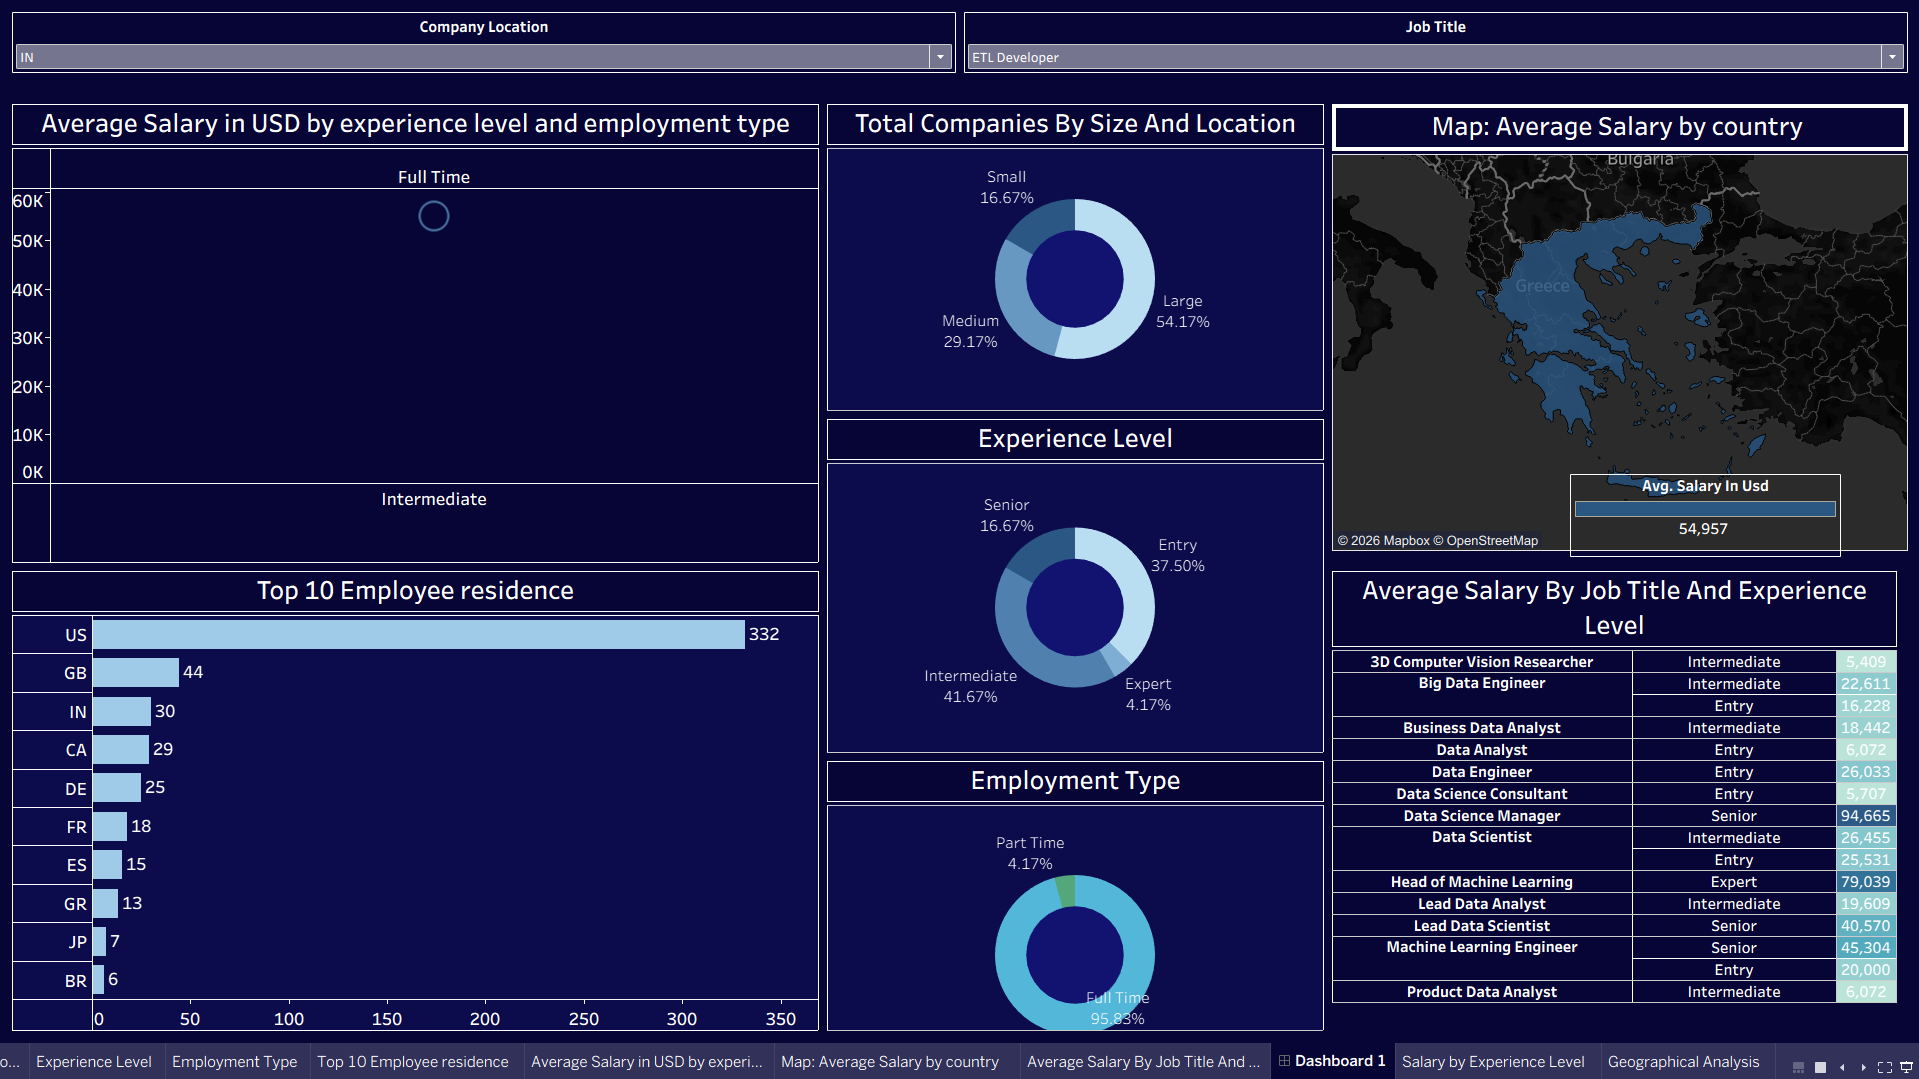

Layout of this report page (visuals, bound fields, positions):
{"tool":"tableau","page":{"name":"Dashboard 1","canvas":[1000,1000],"units":"permille","ordinal":0},"visuals":[{"type":"filter","title":"Total Companies By Size And Location","param":"[federated.0bz7awd05ixelc13vaa1h0qlooa7].[none:company_location:nk]","box":[4.2,9.4,495.7,81.1]},{"type":"filter","title":"Map: Average Salary by country ","param":"[federated.0bz7awd05ixelc13vaa1h0qlooa7].[none:job_title:nk]","box":[499.9,9.4,495.8,81.1]},{"type":"worksheet","title":"Average Salary in USD by experience level and employment type","mark":"Shape","rows":["salary_in_usd"],"cols":["employment_type","experience_level"],"box":[4.2,97.4,424.7,446.5]},{"type":"worksheet","title":"Total Companies By Size And Location","mark":"Pie","rows":["Calculation_2393663215796412417","Calculation_2393663215796412417"],"box":[428.9,97.4,262.8,345.5]},{"type":"worksheet","title":"Map: Average Salary by country ","mark":"Automatic","box":[691.7,97.4,304.1,446.5]},{"type":"worksheet","title":"Experience Level","mark":"Pie","rows":["Calculation_2393663215796412417","Calculation_2393663215796412417"],"box":[428.9,442.9,262.8,306.7]},{"type":"legend","title":"Map: Average Salary by country ","param":"[federated.0bz7awd05ixelc13vaa1h0qlooa7].[avg:salary_in_usd:qk]","box":[817.8,454.8,141.2,79.9]},{"type":"worksheet","title":"Top 10 Employee residence","mark":"Automatic","rows":["employee_residence"],"cols":["employee_residence"],"box":[4.2,543.9,424.7,446.7]},{"type":"worksheet","title":"Average Salary By Job Title And Experience Level","mark":"Square","rows":["job_title","experience_level"],"box":[691.7,543.9,304.1,446.7]},{"type":"worksheet","title":"Employment Type","mark":"Pie","rows":["Calculation_2393663215796412417","Calculation_2393663215796412417"],"box":[428.9,749.7,262.8,240.9]}]}

Visuals, with their boxes on the dashboard's canvas, which has no fixed pixel size, in thousandths of its width and height (x1, y1, x2, y2). These are canvas units, not pixel positions in the 1919x1079 screenshot, which may show the page scaled, cropped or inside an application window:
"Total Companies By Size And Location" filter: [left=4, top=9, right=500, bottom=90]
"Map: Average Salary by country " filter: [left=500, top=9, right=996, bottom=90]
"Average Salary in USD by experience level and employment type" worksheet (Shape marks): [left=4, top=97, right=429, bottom=544]
"Total Companies By Size And Location" worksheet (Pie marks): [left=429, top=97, right=692, bottom=443]
"Map: Average Salary by country " worksheet: [left=692, top=97, right=996, bottom=544]
"Experience Level" worksheet (Pie marks): [left=429, top=443, right=692, bottom=750]
"Map: Average Salary by country " legend: [left=818, top=455, right=959, bottom=535]
"Top 10 Employee residence" worksheet: [left=4, top=544, right=429, bottom=991]
"Average Salary By Job Title And Experience Level" worksheet (Square marks): [left=692, top=544, right=996, bottom=991]
"Employment Type" worksheet (Pie marks): [left=429, top=750, right=692, bottom=991]
